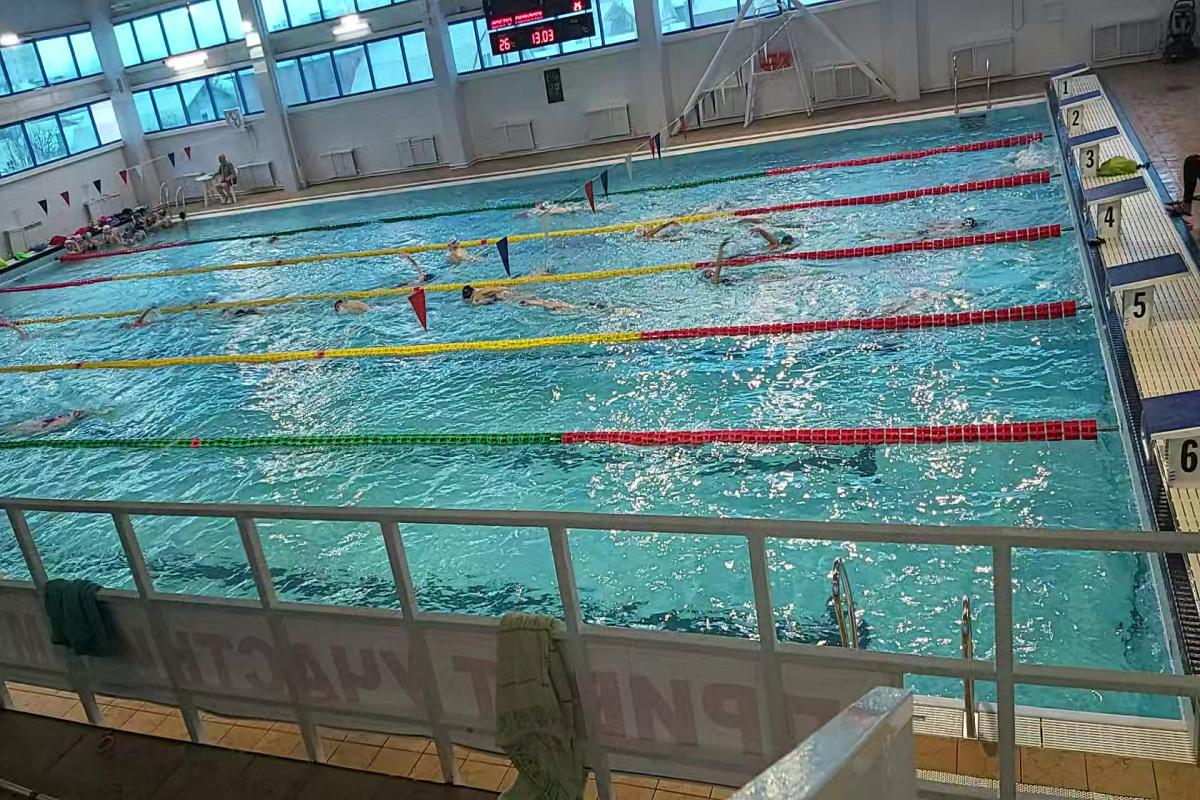swimmer: (12, 396, 109, 437), (525, 286, 617, 323), (876, 206, 986, 236), (695, 260, 782, 287), (743, 219, 805, 251), (622, 223, 699, 247), (520, 194, 599, 217), (322, 294, 394, 319), (210, 302, 285, 325), (456, 286, 512, 314), (438, 232, 484, 265), (109, 315, 165, 340)
